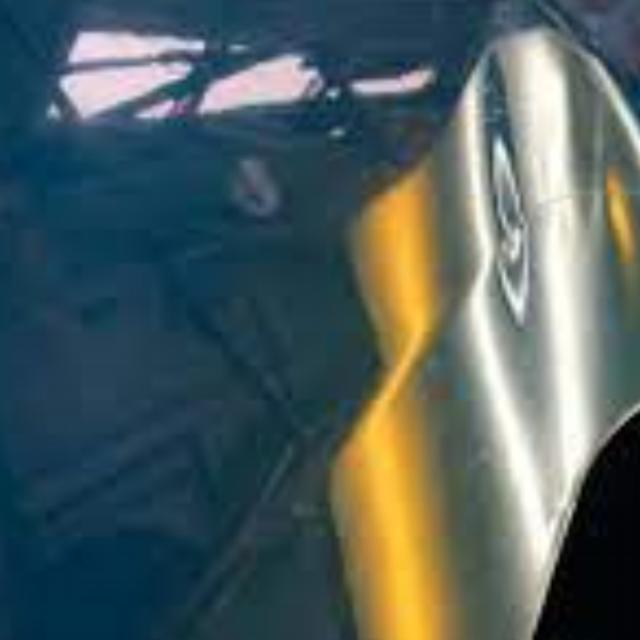dents: (458, 90, 566, 327)
